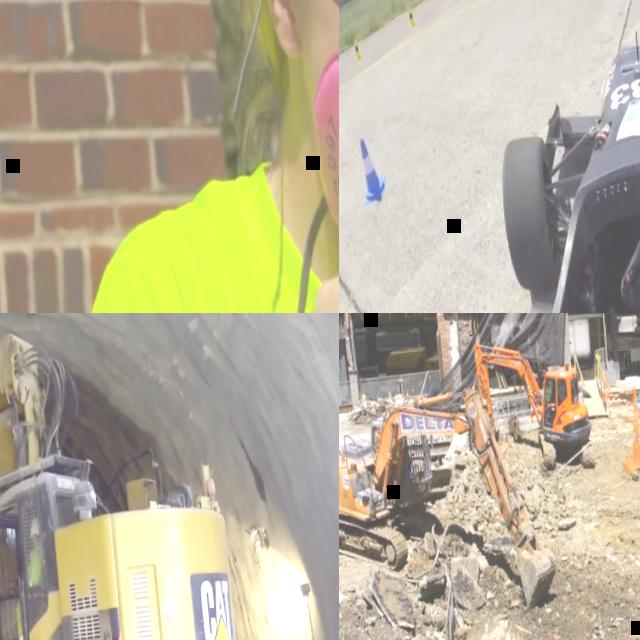Hardhat: (29, 517, 41, 539)
NO-Safety Vest: (150, 141, 339, 313)
Person: (31, 0, 339, 313), (0, 514, 52, 640)
Safety Cone: (358, 132, 385, 212), (630, 387, 640, 436), (352, 36, 364, 66), (406, 5, 417, 31)
Safety Vest: (24, 547, 44, 588)
vehicle: (0, 313, 339, 640), (461, 15, 640, 313), (339, 397, 558, 628), (472, 332, 596, 483), (605, 313, 640, 376)
